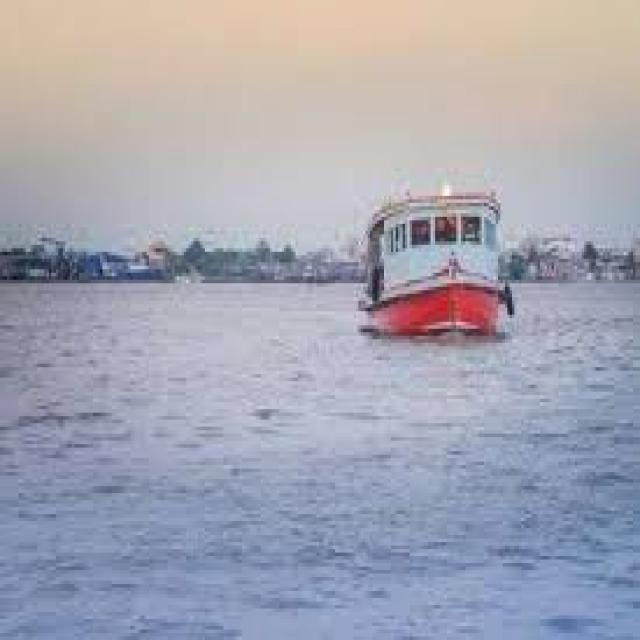houseboat: (332, 189, 514, 352)
